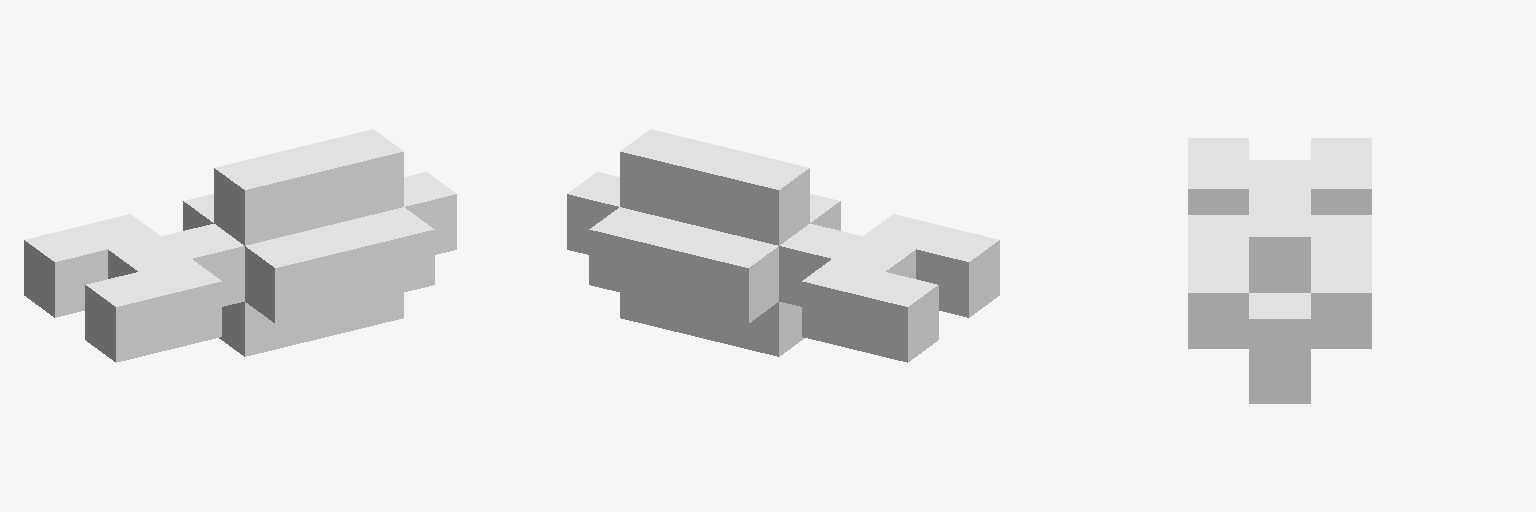
File: bullet_player.obj
The picture shows the model from 3 angles: view 1: azimuth 30°, elevation 25°; view 2: azimuth 150°, elevation 25°; view 3: azimuth 270°, elevation 25°; orthographic projection.
Parts seen in each view (by area): view 1: object 1; view 2: object 1; view 3: object 1.
Boxes of the visible parts, <box> form: object 1: <box>24,129,456,362</box>; object 1: <box>567,129,999,362</box>; object 1: <box>1188,138,1371,403</box>.
Bounding box in the file's own units: 0.7 × 0.3 × 0.3.